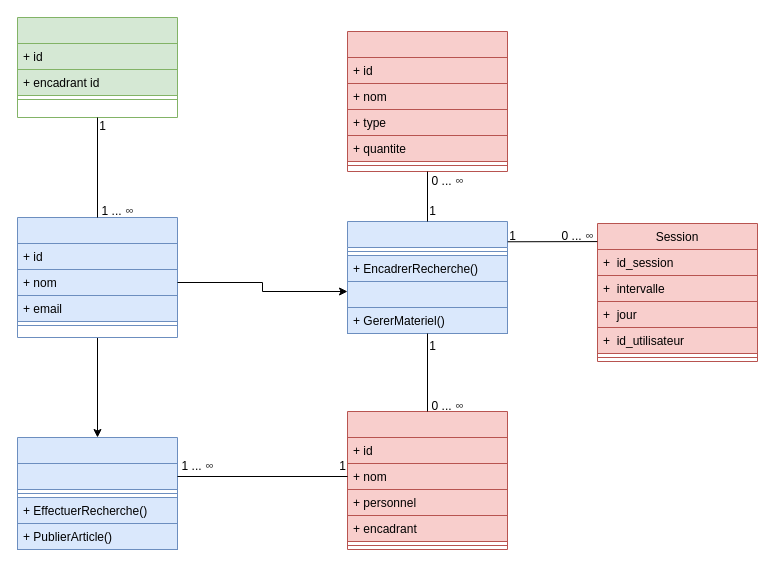
This 775x570 diagram has some shape labels left out. The box of each missing label's shape, as (x1, y1, x2, y2) in pixels:
+ GererEmploiDuTemp(): (346, 280, 508, 308)
+ specialite: (16, 462, 178, 490)
Chef de Labo: (346, 220, 508, 334)
Laboratoire: (16, 16, 178, 118)
Materiel: (346, 30, 508, 172)
Personnel: (16, 436, 178, 550)
Projet: (346, 410, 508, 550)
Rechercheur: (16, 216, 178, 338)
